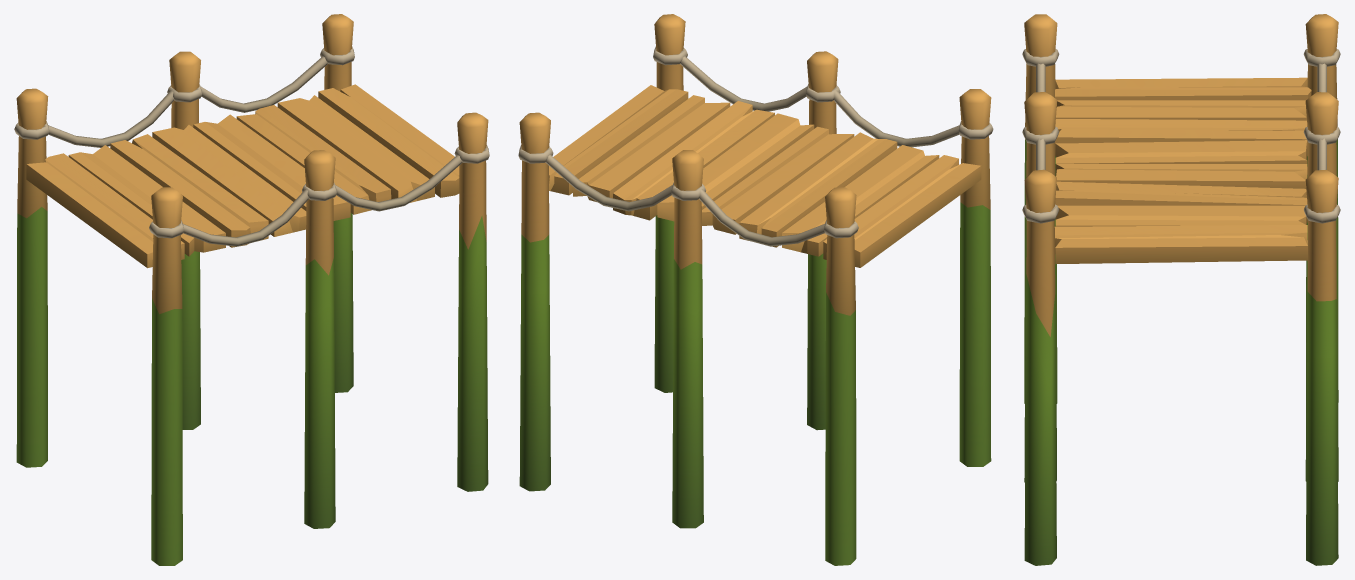
The model's file is Dock+3.fbx.
The picture shows the model from 3 angles, left to right: view 1: azimuth 30°, elevation 25°; view 2: azimuth 150°, elevation 25°; view 3: azimuth 270°, elevation 25°; orthographic projection. The views are drawn at different scales.
Parts seen in each view (by area): view 1: Dock 3; view 2: Dock 3; view 3: Dock 3.
Part boxes in pixels (x1=…): Dock 3: x1=14, y1=14, x2=489, y2=565; Dock 3: x1=518, y1=14, x2=993, y2=565; Dock 3: x1=1022, y1=14, x2=1340, y2=565.
Size of the model in its own units: 204 by 215 by 161.
